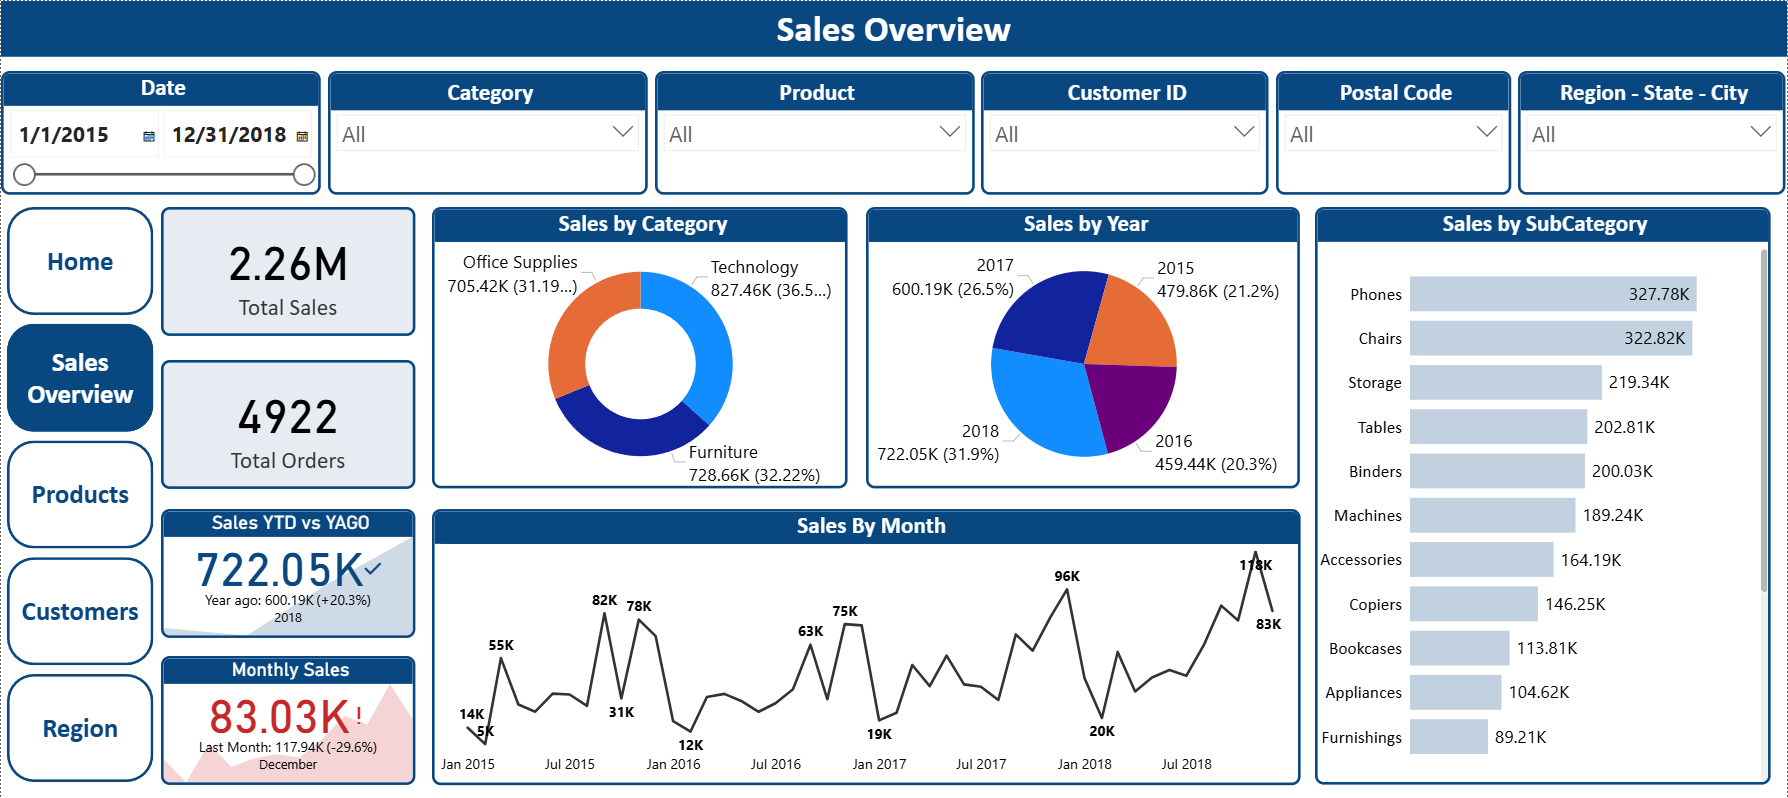

Layout of this report page (visuals, bound fields, positions):
{"tool":"powerbi","page":{"name":"Sales Overview","canvas":[2050,920],"ordinal":1},"visuals":[{"type":"textbox","box":[0,0,2050,64.5],"z":0},{"type":"slicer","title":"Date","fields":{"Values":["Date.Date"]},"box":[0,80,366.7,141.7],"z":1000},{"type":"slicer","title":"Category","fields":{"Values":["Dim Product.Category"]},"box":[375,80,366.7,141.7],"z":2000},{"type":"slicer","title":"Product","fields":{"Values":["Dim Product.Product Name"]},"box":[750.7,80,366.7,141.7],"z":3000},{"type":"slicer","title":"Customer ID","fields":{"Values":["Dim Customer.Customer ID"]},"box":[1125,80,330,141.7],"z":4000},{"type":"slicer","title":"Postal Code","fields":{"Values":["Dim Region.Postal Code"]},"box":[1463.3,80,270,141.7],"z":5000},{"type":"slicer","title":"Region - State - City","fields":{"Values":["Dim Region.Region","Dim Region.State","Dim Region.City"]},"box":[1741.7,80,306.7,141.7],"z":6000},{"type":"card","fields":{"Values":["Measure.Total Sales"]},"box":[183.3,236.6,291.7,148.3],"z":7000},{"type":"card","fields":{"Values":["Measure.Num Of Orders"]},"box":[183.3,411.6,291.7,148.3],"z":8000},{"type":"kpi","title":"Sales YTD vs YAGO","fields":{"Indicator":["Measure.Sales YTD"],"Goal":["Measure.Sales YAGO"],"TrendLine":["Date.Date.Variation.Date Hierarchy.Year"]},"box":[183.3,583.3,291.7,148.3],"z":9000},{"type":"kpi","title":"Monthly Sales","fields":{"Indicator":["Measure.Sales MTD"],"Goal":["Measure.Sales L-Month"],"TrendLine":["Date.Start Of Month"]},"box":[183.3,751.7,291.7,148.3],"z":10000},{"type":"lineChart","title":"Sales By Month","fields":{"Category":["Date.Date.Variation.Date Hierarchy.Year","Date.Date.Variation.Date Hierarchy.Month"],"Y":["Measure.Total Sales"]},"box":[509.5,579.7,996.6,316.8],"z":11000},{"type":"donutChart","title":"Sales by Category","fields":{"Y":["Measure.Total Sales"],"Category":["Dim Product.Category"]},"box":[495,236.7,476.7,323.3],"z":12000},{"type":"barChart","title":"Sales by SubCategory","fields":{"Y":["Measure.Total Sales"],"Category":["Dim Product.Sub-Category"]},"box":[1508.5,236.4,522.9,663.3],"z":13000},{"type":"pieChart","title":"Sales by Year","fields":{"Y":["Measure.Total Sales"],"Category":["Date.Year"]},"box":[993.3,236.7,498.3,323.3],"z":14000},{"type":"pageNavigator","box":[6.7,236.7,168.3,663.3],"z":15000}]}

Visuals, with their boxes in screenshot pixels (x1, y1, x2, y2), scaled from the page's 2050x920 canvas onto the 1788x798 screenshot:
textbox: select_region(0, 0, 1787, 56)
"Date" slicer: select_region(0, 69, 320, 192)
"Category" slicer: select_region(327, 69, 647, 192)
"Product" slicer: select_region(655, 69, 975, 192)
"Customer ID" slicer: select_region(981, 69, 1269, 192)
"Postal Code" slicer: select_region(1276, 69, 1512, 192)
"Region - State - City" slicer: select_region(1519, 69, 1787, 192)
card - Measure.Total Sales: select_region(160, 205, 414, 334)
card - Measure.Num Of Orders: select_region(160, 357, 414, 486)
"Sales YTD vs YAGO" kpi: select_region(160, 506, 414, 635)
"Monthly Sales" kpi: select_region(160, 652, 414, 781)
"Sales By Month" lineChart: select_region(444, 503, 1314, 778)
"Sales by Category" donutChart: select_region(432, 205, 848, 486)
"Sales by SubCategory" barChart: select_region(1316, 205, 1772, 780)
"Sales by Year" pieChart: select_region(866, 205, 1301, 486)
pageNavigator: select_region(6, 205, 153, 781)
